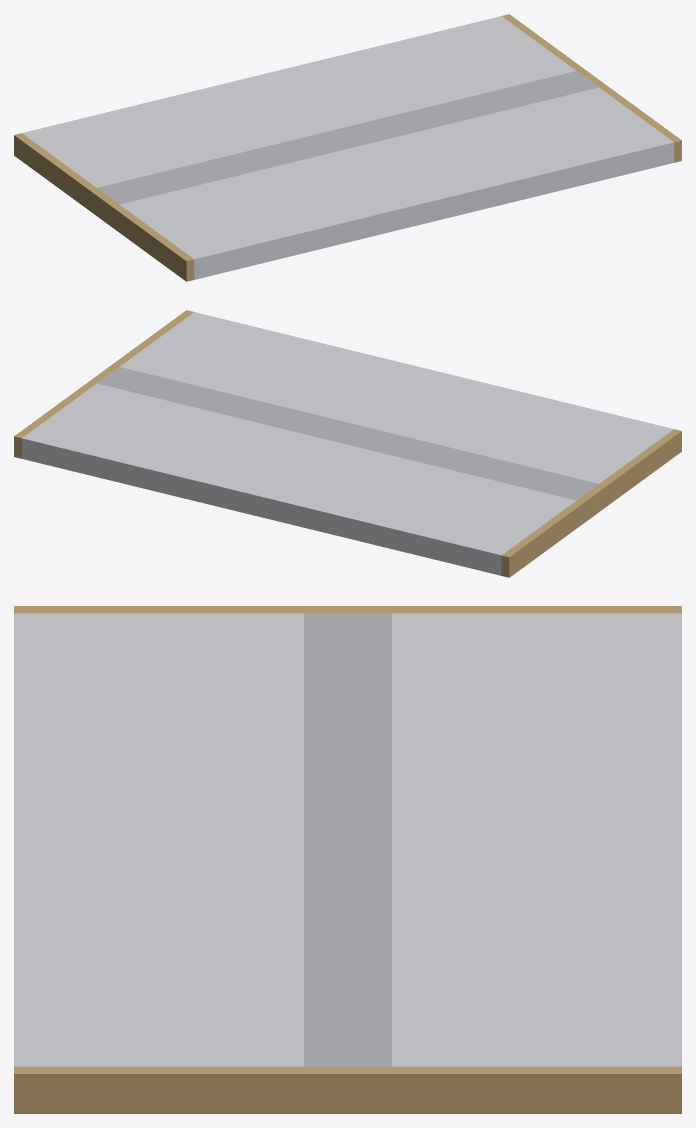
File: rock_wool_bat.glb
The picture shows the model from 3 angles, top to bottom: view 1: azimuth 30°, elevation 25°; view 2: azimuth 150°, elevation 25°; view 3: azimuth 270°, elevation 25°; orthographic projection. The views are drawn at different scales.
Parts seen in each view (by area): view 1: rock_wool_bat:compound; view 2: rock_wool_bat:compound; view 3: rock_wool_bat:compound.
Boxes of the visible parts, x1,y1,x2,y2 form: rock_wool_bat:compound: (14,14,681,281); rock_wool_bat:compound: (14,310,681,577); rock_wool_bat:compound: (14,606,681,1113).
Bounding box in the file's own units: 0.504 × 0.02 × 0.304.
